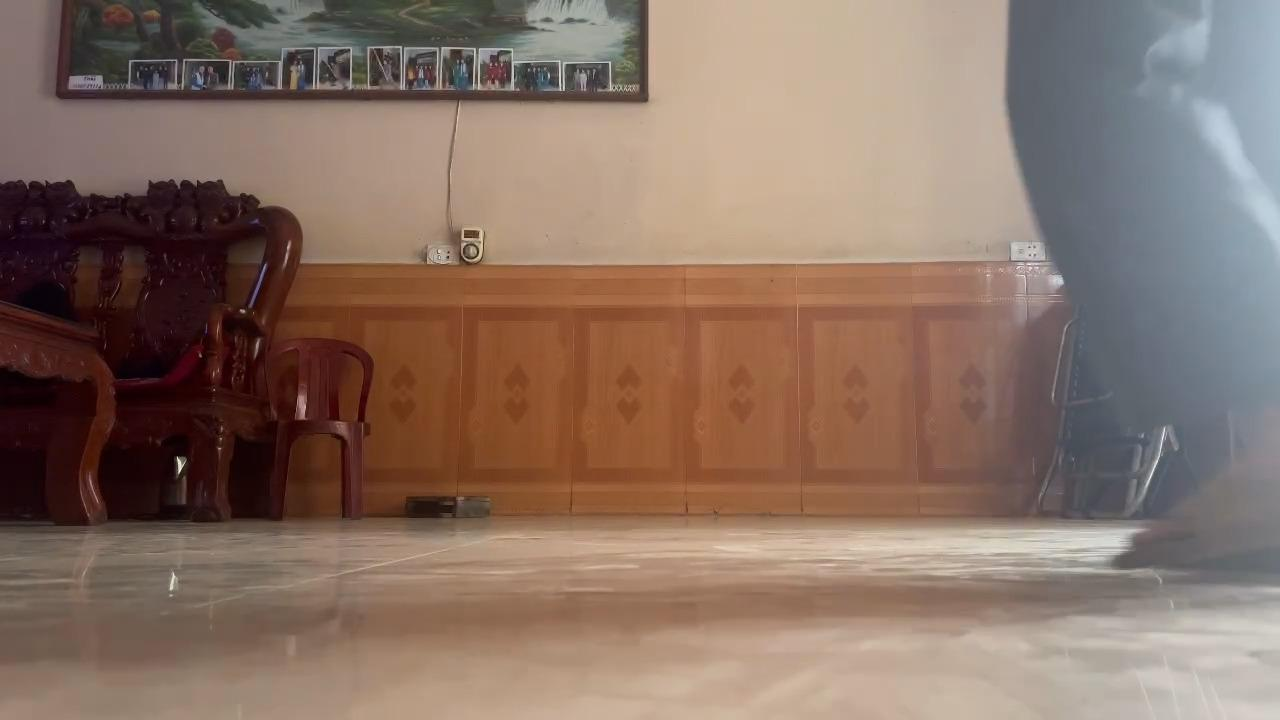no-boot: (1102, 465, 1280, 584)
